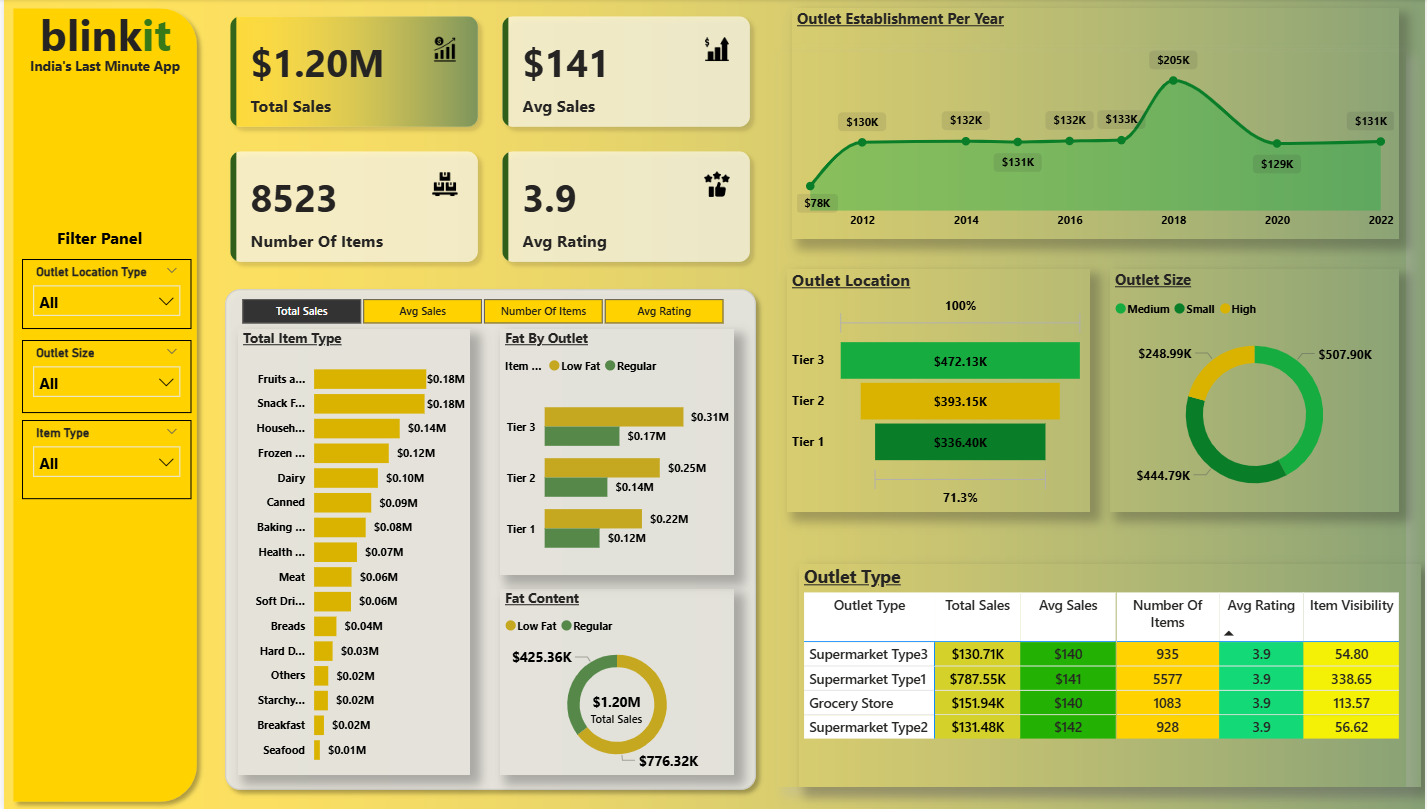

This screenshot's page, from the dashboard's own definition file:
{"tool":"powerbi","page":{"name":"Page 1","canvas":[1400,800],"ordinal":0},"visuals":[{"type":"shape","box":[0,0,199,800],"z":0},{"type":"textbox","box":[30.5,0,175.4,71.9],"z":1000},{"type":"textbox","box":[20.7,52.2,167.5,39.4],"z":2000},{"type":"cardVisual","fields":{"Data":["BlinkIT Grocery Data.Total Sales","BlinkIT Grocery Data.Avg Sales","BlinkIT Grocery Data.Number Of Items","BlinkIT Grocery Data.Avg Rating"]},"box":[205.9,0,546.8,276.8],"z":3000},{"type":"shape","box":[208.9,276.8,540.9,511.3],"z":4000},{"type":"slicer","fields":{"Values":["Metrics.Metrics"]},"box":[208.9,288.7,524.1,36.5],"z":5000},{"type":"donutChart","title":" Fat Content","fields":{"Y":["BlinkIT Grocery Data.Total Sales"],"Category":["BlinkIT Grocery Data.Item Fat Content"]},"box":[488.7,581.3,230.5,183.3],"z":6000},{"type":"cardVisual","fields":{"Data":["BlinkIT Grocery Data.Total Sales"]},"box":[548.8,667,109.4,63.1],"z":7000},{"type":"clusteredBarChart","title":"Fat By Outlet","fields":{"Y":["BlinkIT Grocery Data.Total Sales"],"Category":["BlinkIT Grocery Data.Outlet Location Type"],"Series":["BlinkIT Grocery Data.Item Fat Content"]},"box":[488.7,325.1,230.5,242.4],"z":8000},{"type":"barChart","title":"Total Item Type","fields":{"Category":["BlinkIT Grocery Data.Item Type"],"Y":["BlinkIT Grocery Data.Total Sales"]},"box":[230.5,325.1,228.6,439.4],"z":9000},{"type":"shape","box":[762.6,52.2,618.7,724.1],"z":10000},{"type":"lineChart","title":" Outlet Establishment Per Year","fields":{"Y":["BlinkIT Grocery Data.Total Sales"],"Category":["BlinkIT Grocery Data.Outlet Establishment Year"]},"box":[776.4,8.9,598,227.6],"z":11000},{"type":"pieChart","title":"Outlet Size","fields":{"Category":["BlinkIT Grocery Data.Outlet Size"],"Y":["BlinkIT Grocery Data.Total Sales"]},"box":[1089.7,266,284.7,239.4],"z":12000},{"type":"funnel","title":" Outlet Location ","fields":{"Category":["BlinkIT Grocery Data.Outlet Location Type"],"Y":["BlinkIT Grocery Data.Total Sales"]},"box":[771.4,266,298.5,239.4],"z":13000},{"type":"pivotTable","title":"Outlet Type","fields":{"Values":["BlinkIT Grocery Data.Total Sales","BlinkIT Grocery Data.Avg Sales","BlinkIT Grocery Data.Number Of Items","BlinkIT Grocery Data.Avg Rating","Sum(BlinkIT Grocery Data.Item Visibility)"],"Rows":["BlinkIT Grocery Data.Outlet Type"]},"box":[783.3,556.7,612.8,219.7],"z":14000},{"type":"slicer","fields":{"Values":["BlinkIT Grocery Data.Outlet Location Type"]},"box":[17.7,256.2,166.5,69],"z":15000},{"type":"slicer","fields":{"Values":["BlinkIT Grocery Data.Outlet Size"]},"box":[17.7,336,166.5,71.9],"z":16000},{"type":"slicer","fields":{"Values":["BlinkIT Grocery Data.Item Type"]},"box":[17.7,414.8,166.5,77.8],"z":17000},{"type":"textbox","box":[47.3,219.7,113.3,32.5],"z":18000}]}

Visuals, with their boxes in screenshot pixels (x1, y1, x2, y2), scaled from the page's 1400x800 canvas onto the 1427x809 screenshot:
shape: [left=0, top=0, right=203, bottom=808]
textbox: [left=31, top=0, right=210, bottom=73]
textbox: [left=21, top=53, right=192, bottom=93]
cardVisual - BlinkIT Grocery Data.Total Sales x BlinkIT Grocery Data.Avg Sales: [left=210, top=0, right=767, bottom=280]
shape: [left=213, top=280, right=764, bottom=797]
slicer - Metrics.Metrics: [left=213, top=292, right=747, bottom=329]
" Fat Content" donutChart: [left=498, top=588, right=733, bottom=773]
cardVisual - BlinkIT Grocery Data.Total Sales: [left=559, top=675, right=671, bottom=738]
"Fat By Outlet" clusteredBarChart: [left=498, top=329, right=733, bottom=574]
"Total Item Type" barChart: [left=235, top=329, right=468, bottom=773]
shape: [left=777, top=53, right=1408, bottom=785]
" Outlet Establishment Per Year" lineChart: [left=791, top=9, right=1401, bottom=239]
"Outlet Size" pieChart: [left=1111, top=269, right=1401, bottom=511]
" Outlet Location " funnel: [left=786, top=269, right=1091, bottom=511]
"Outlet Type" pivotTable: [left=798, top=563, right=1423, bottom=785]
slicer - BlinkIT Grocery Data.Outlet Location Type: [left=18, top=259, right=188, bottom=329]
slicer - BlinkIT Grocery Data.Outlet Size: [left=18, top=340, right=188, bottom=412]
slicer - BlinkIT Grocery Data.Item Type: [left=18, top=419, right=188, bottom=498]
textbox: [left=48, top=222, right=164, bottom=255]
